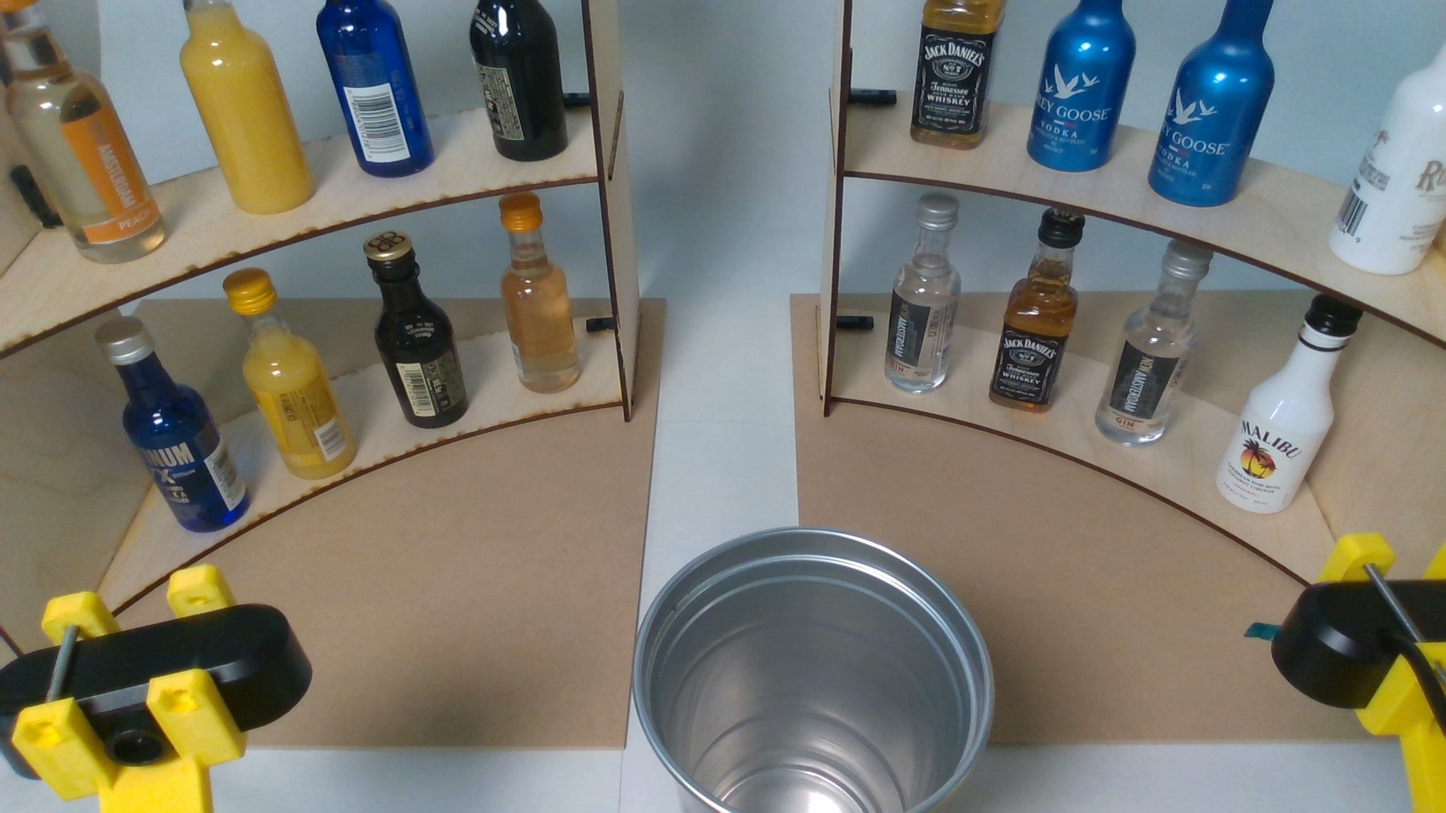coke: (365, 232, 470, 427), (473, 0, 569, 163)
gin: (1095, 234, 1216, 446), (885, 194, 964, 397)
ginger_beer: (0, 0, 170, 260), (501, 191, 584, 393)
orange_juice: (223, 268, 362, 479), (179, 2, 315, 213)
tequila: (1219, 291, 1366, 512)
tonic_water: (98, 316, 252, 530), (318, 1, 435, 176)
vodka: (1148, 0, 1281, 208), (1027, 2, 1138, 173)
whiskey: (990, 204, 1087, 413), (913, 0, 1007, 151)
